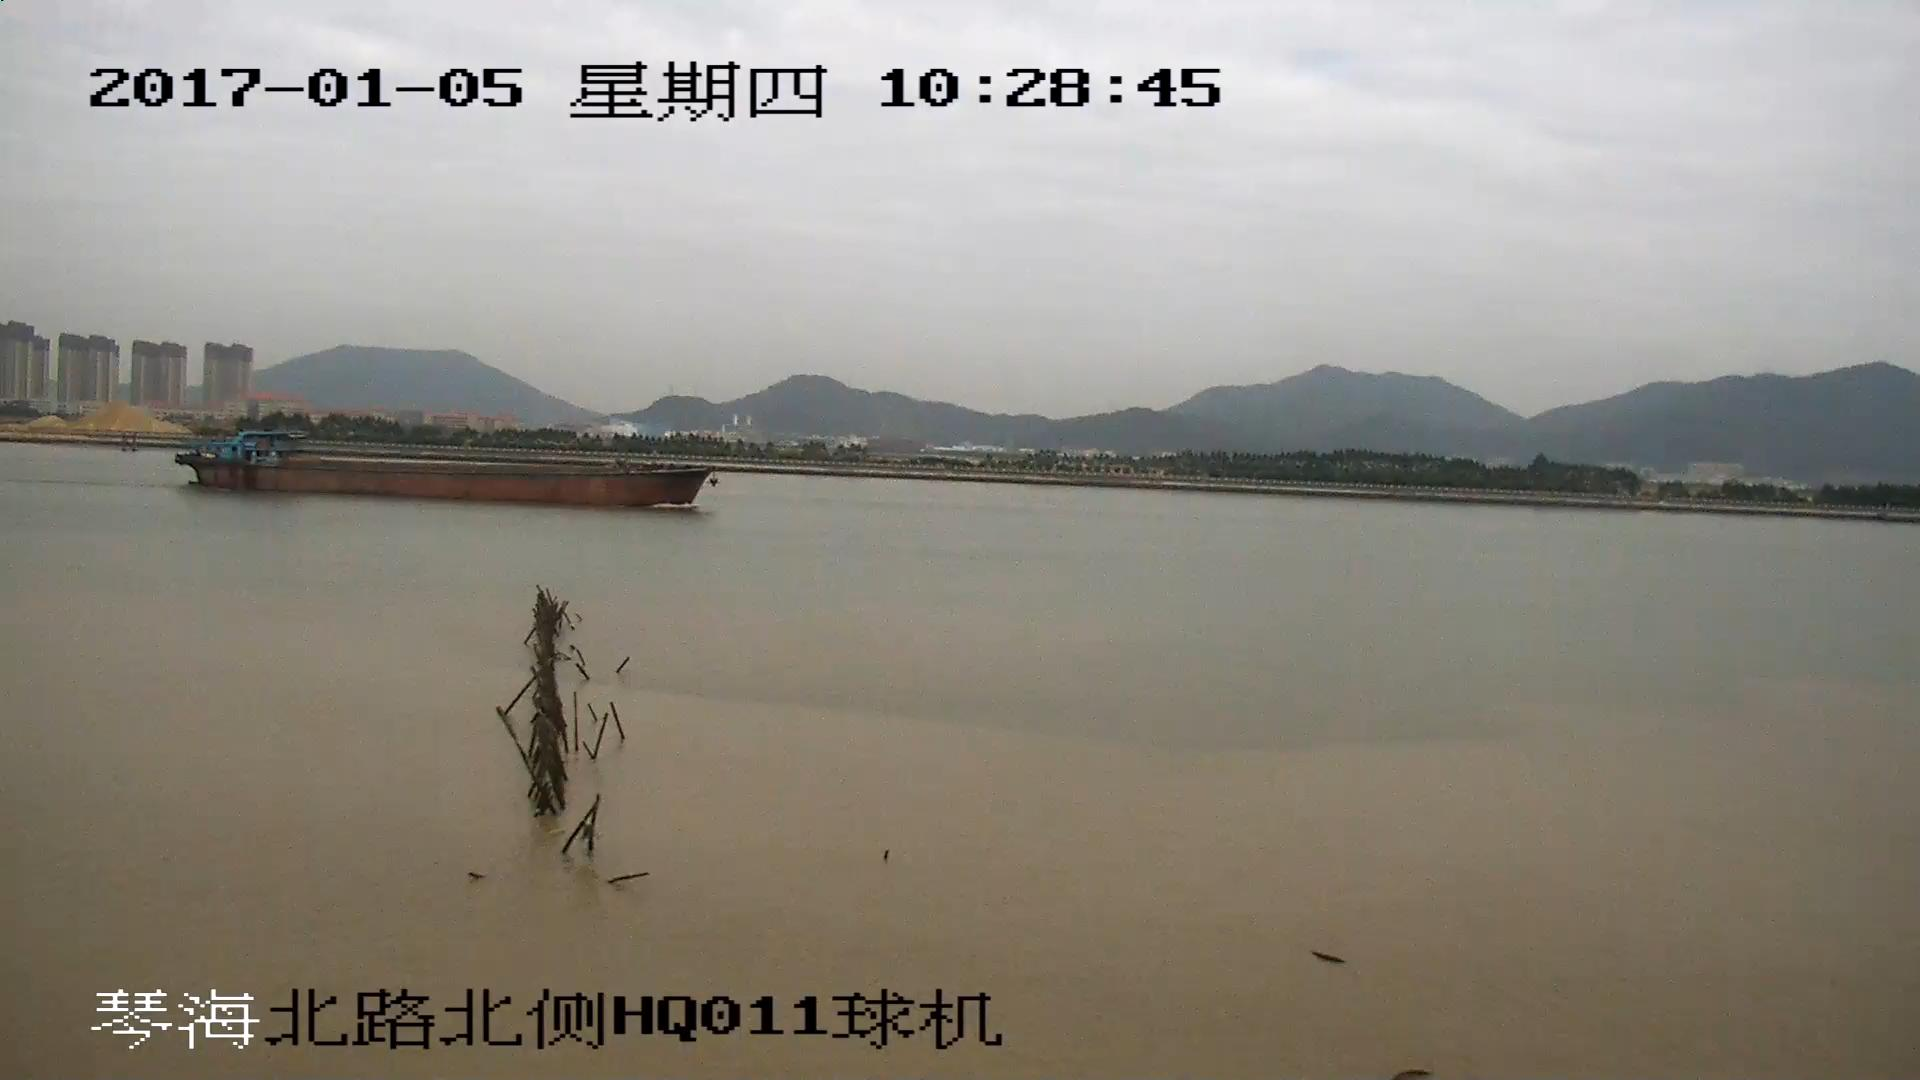bulk cargo carrier: (166, 432, 716, 508)
